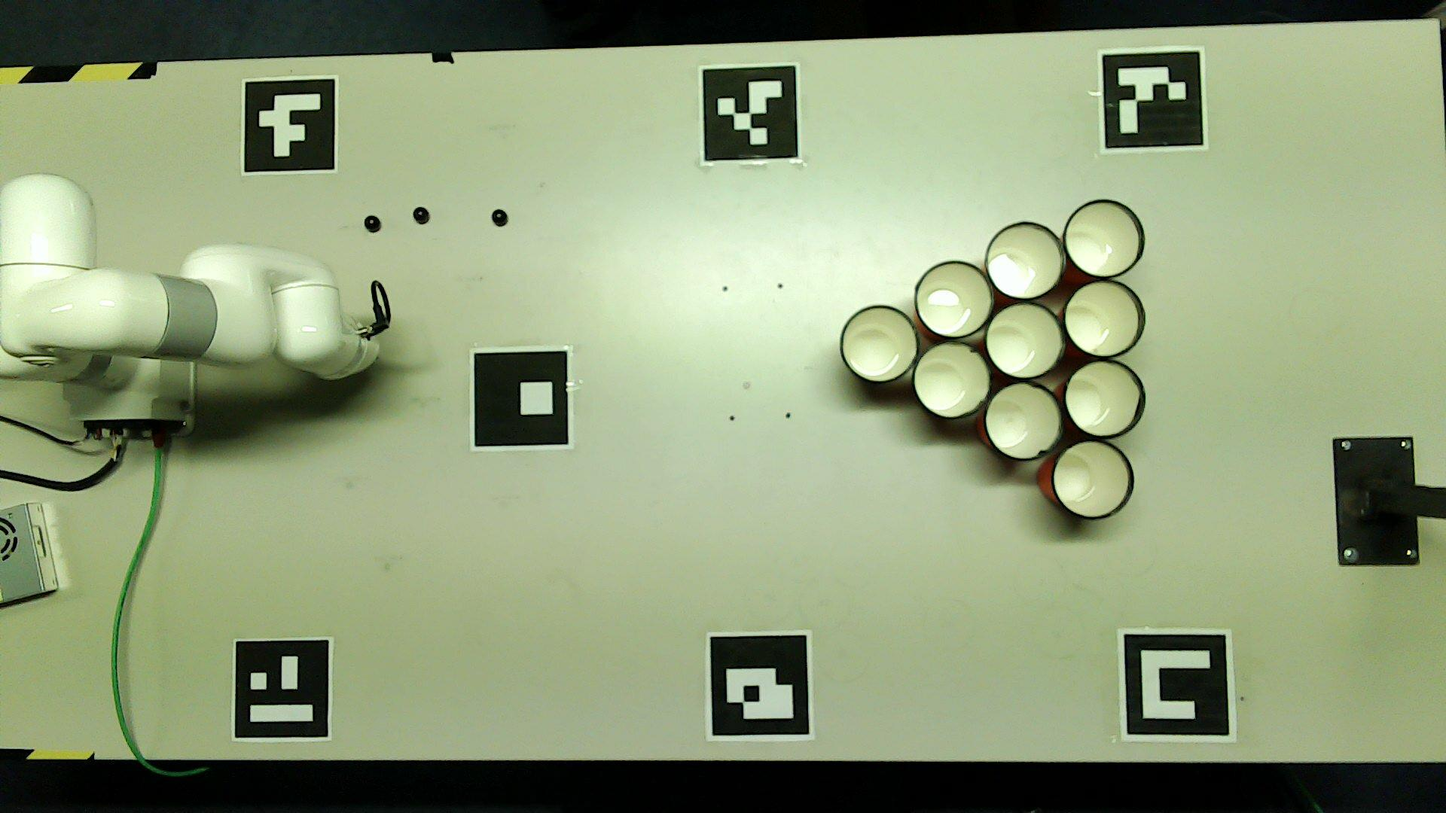ball: (414, 208, 429, 222), (365, 216, 380, 230), (492, 210, 506, 224)
cup: (1053, 441, 1131, 518), (985, 302, 1063, 378), (913, 342, 992, 417), (1065, 280, 1141, 356), (986, 383, 1062, 459), (841, 307, 917, 382), (986, 224, 1063, 298), (1065, 201, 1141, 275), (916, 262, 991, 336), (1066, 362, 1141, 436)
